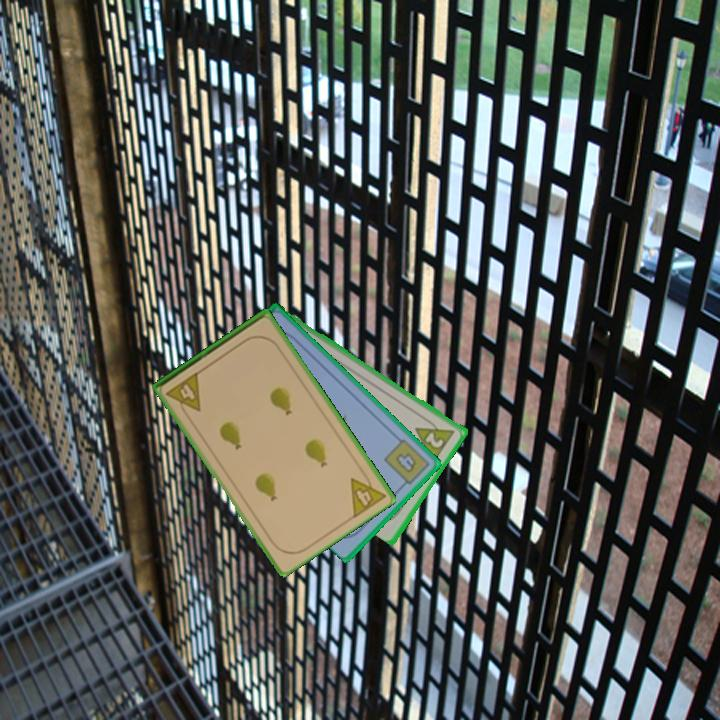2p: (412, 412, 458, 465)
4b: (381, 435, 433, 491)
4p: (347, 465, 389, 521), (163, 369, 204, 420)
